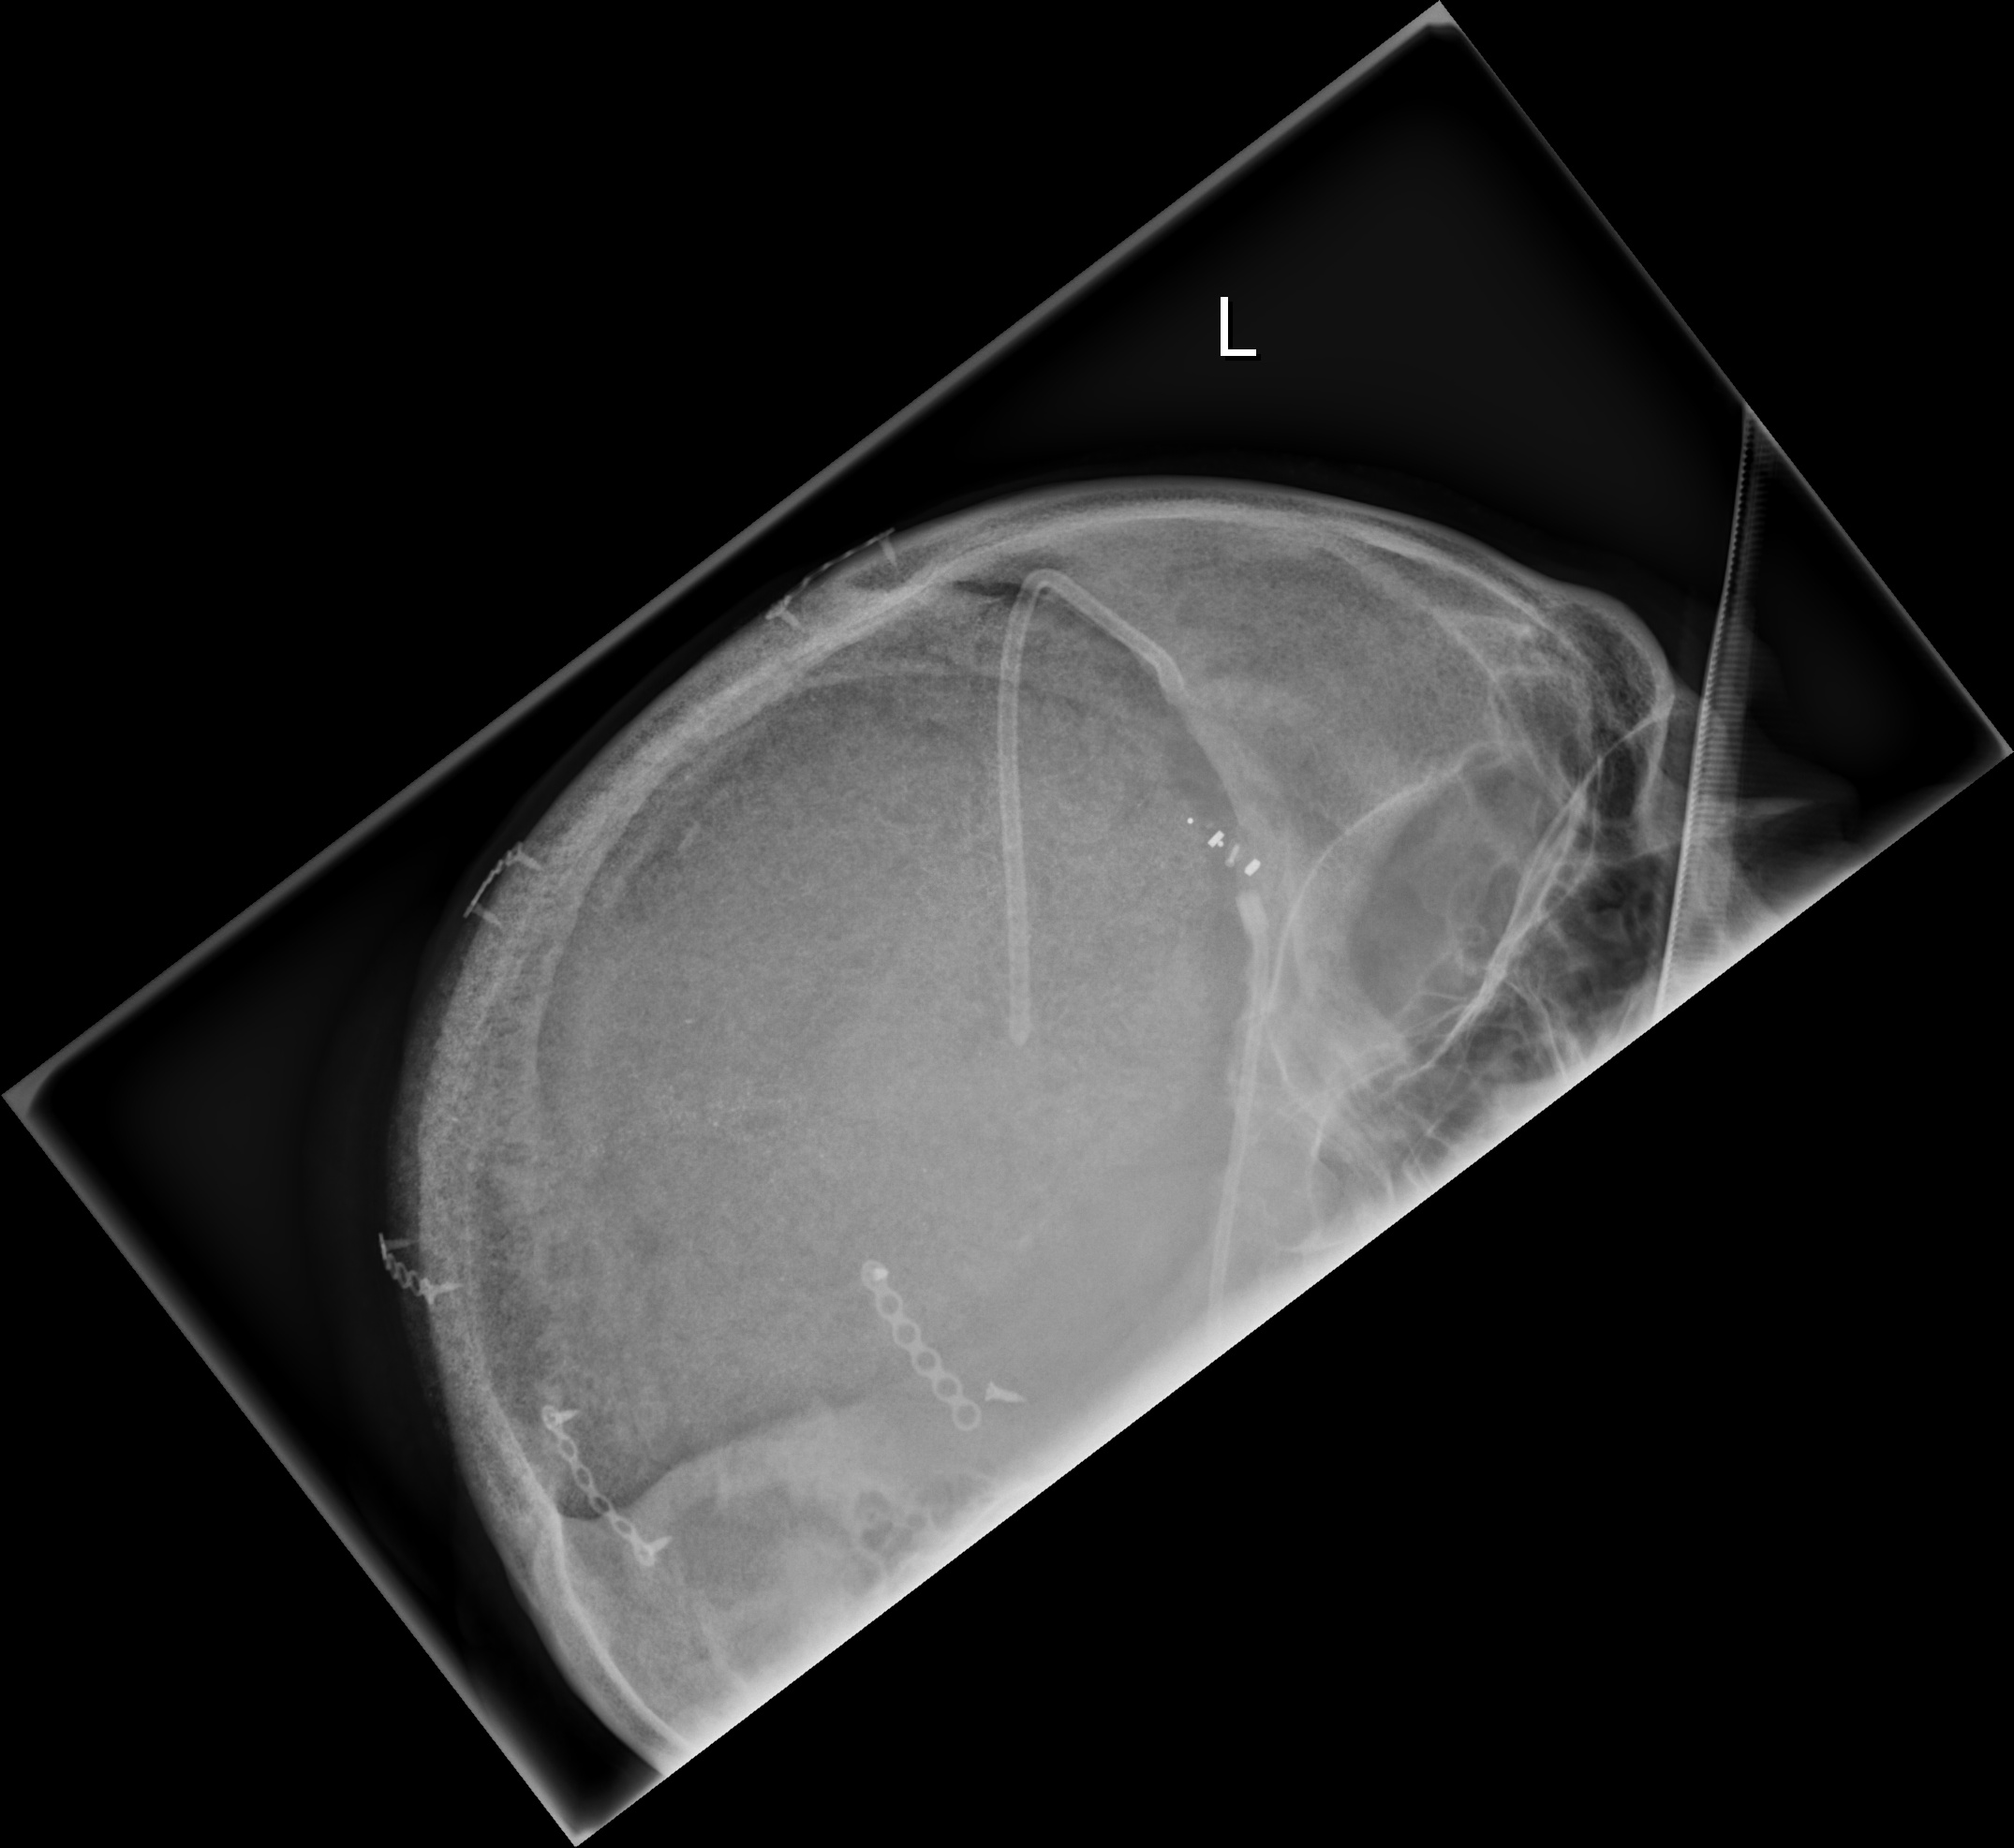Codman Certas: (1177, 804, 1279, 913)
